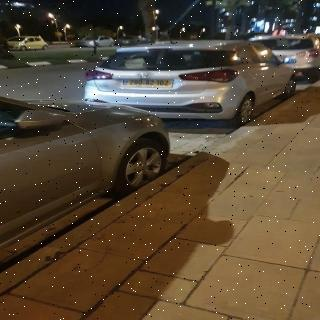LicensePlate: (129, 80, 172, 87)
